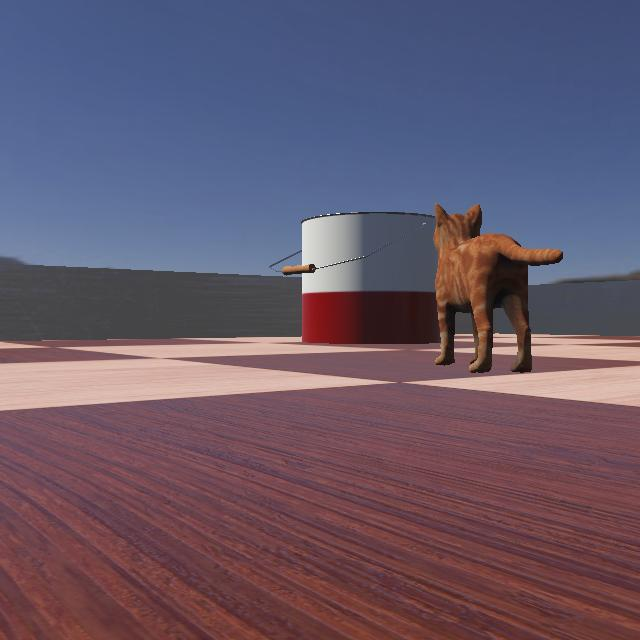cat: (423, 146, 581, 384), (423, 146, 581, 384)
paint-bucket: (258, 204, 464, 346)
